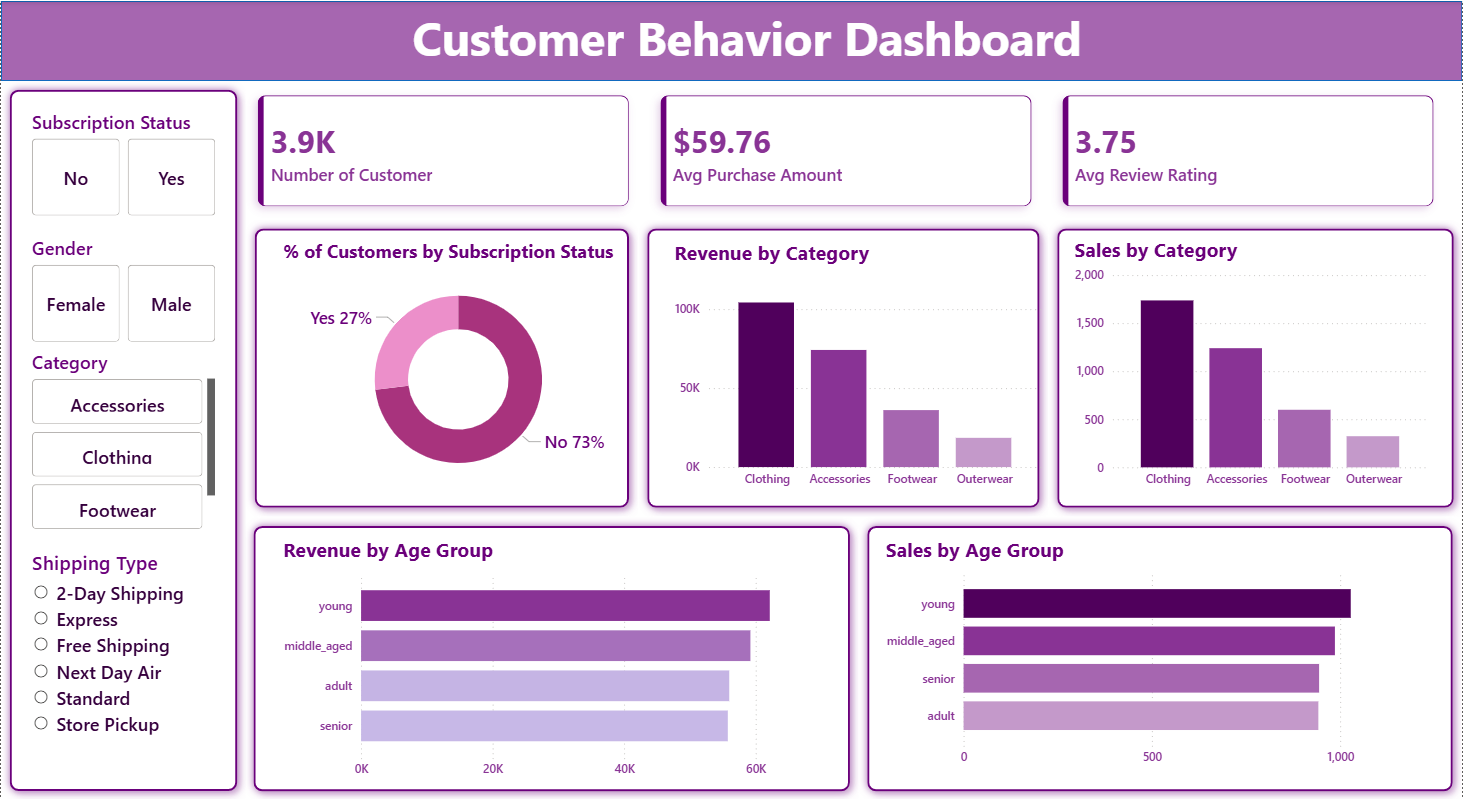

This screenshot's page, from the dashboard's own definition file:
{"tool":"powerbi","page":{"name":"Page 1","canvas":[1500,820],"ordinal":0},"visuals":[{"type":"cardVisual","fields":{"Data":["public customer.num of cust","public customer.avg purchase amt","public customer.avg review rating"]},"box":[235.2,68,1265.1,172.8],"z":0},{"type":"shape","box":[0,0,1500.6,82.2],"z":1000},{"type":"textbox","box":[412.3,0,708.4,82.2],"z":2000},{"type":"shape","box":[252.2,225.3,402.4,304.6],"z":3000},{"type":"shape","box":[654.5,225.3,420.8,304.6],"z":4000},{"type":"shape","box":[250.8,529.9,630.4,290.4],"z":5000},{"type":"shape","box":[881.2,529.9,619.1,290.4],"z":6000},{"type":"shape","box":[1075.3,225.3,425,304.6],"z":7000},{"type":"donutChart","title":"% of Customers by Subscription Status","fields":{"Category":["public customer.subscription_status"],"Y":["CountNonNull(public customer.customer_id)"]},"box":[284.8,243.7,369.8,264.9],"z":8000},{"type":"clusteredColumnChart","title":"Revenue by Category","fields":{"Y":["Sum(public customer.purchase_amount)"],"Category":["public customer.category"]},"box":[687.1,243.7,388.2,264.9],"z":9000},{"type":"clusteredColumnChart","title":"Sales by Category","fields":{"Category":["public customer.category"],"Y":["CountNonNull(public customer.customer_id)"]},"box":[1098,240.8,374,267.8],"z":10000},{"type":"shape","box":[0,82.2,251.6,738.1],"z":11000},{"type":"advancedSlicerVisual","fields":{"Values":["public customer.subscription_status"]},"box":[26.9,111.9,198.3,114.8],"z":12000},{"type":"advancedSlicerVisual","fields":{"Values":["public customer.gender"]},"box":[26.9,240.8,198.3,114.8],"z":13000},{"type":"advancedSlicerVisual","fields":{"Values":["public customer.category"]},"box":[26.9,358.4,198.3,191.3],"z":14000},{"type":"listSlicer","fields":{"Values":["public customer.shipping_type"]},"box":[26.9,562.4,198.3,257.8],"z":15000},{"type":"clusteredBarChart","title":"Revenue by Age Group","fields":{"Y":["Sum(public customer.purchase_amount)"],"Category":["public customer.age_group"]},"box":[284.8,549.7,573.8,257.8],"z":16000},{"type":"clusteredBarChart","title":"Sales by Age Group","fields":{"Category":["public customer.age_group"],"Y":["CountNonNull(public customer.customer_id)"]},"box":[903.9,549.7,568.1,245.1],"z":18000}]}

Visuals, with their boxes in screenshot pixels (x1, y1, x2, y2), scaled from the page's 1500x820 canvas onto the 1463x799 screenshot:
cardVisual - public customer.num of cust x public customer.avg purchase amt: rect(229, 66, 1462, 235)
shape: rect(0, 0, 1462, 80)
textbox: rect(402, 0, 1093, 80)
shape: rect(246, 220, 638, 516)
shape: rect(638, 220, 1049, 516)
shape: rect(245, 516, 859, 798)
shape: rect(859, 516, 1462, 798)
shape: rect(1049, 220, 1462, 516)
"% of Customers by Subscription Status" donutChart: rect(278, 237, 638, 496)
"Revenue by Category" clusteredColumnChart: rect(670, 237, 1049, 496)
"Sales by Category" clusteredColumnChart: rect(1071, 235, 1436, 496)
shape: rect(0, 80, 245, 798)
advancedSlicerVisual - public customer.subscription_status: rect(26, 109, 220, 221)
advancedSlicerVisual - public customer.gender: rect(26, 235, 220, 346)
advancedSlicerVisual - public customer.category: rect(26, 349, 220, 536)
listSlicer - public customer.shipping_type: rect(26, 548, 220, 798)
"Revenue by Age Group" clusteredBarChart: rect(278, 536, 837, 787)
"Sales by Age Group" clusteredBarChart: rect(882, 536, 1436, 774)
